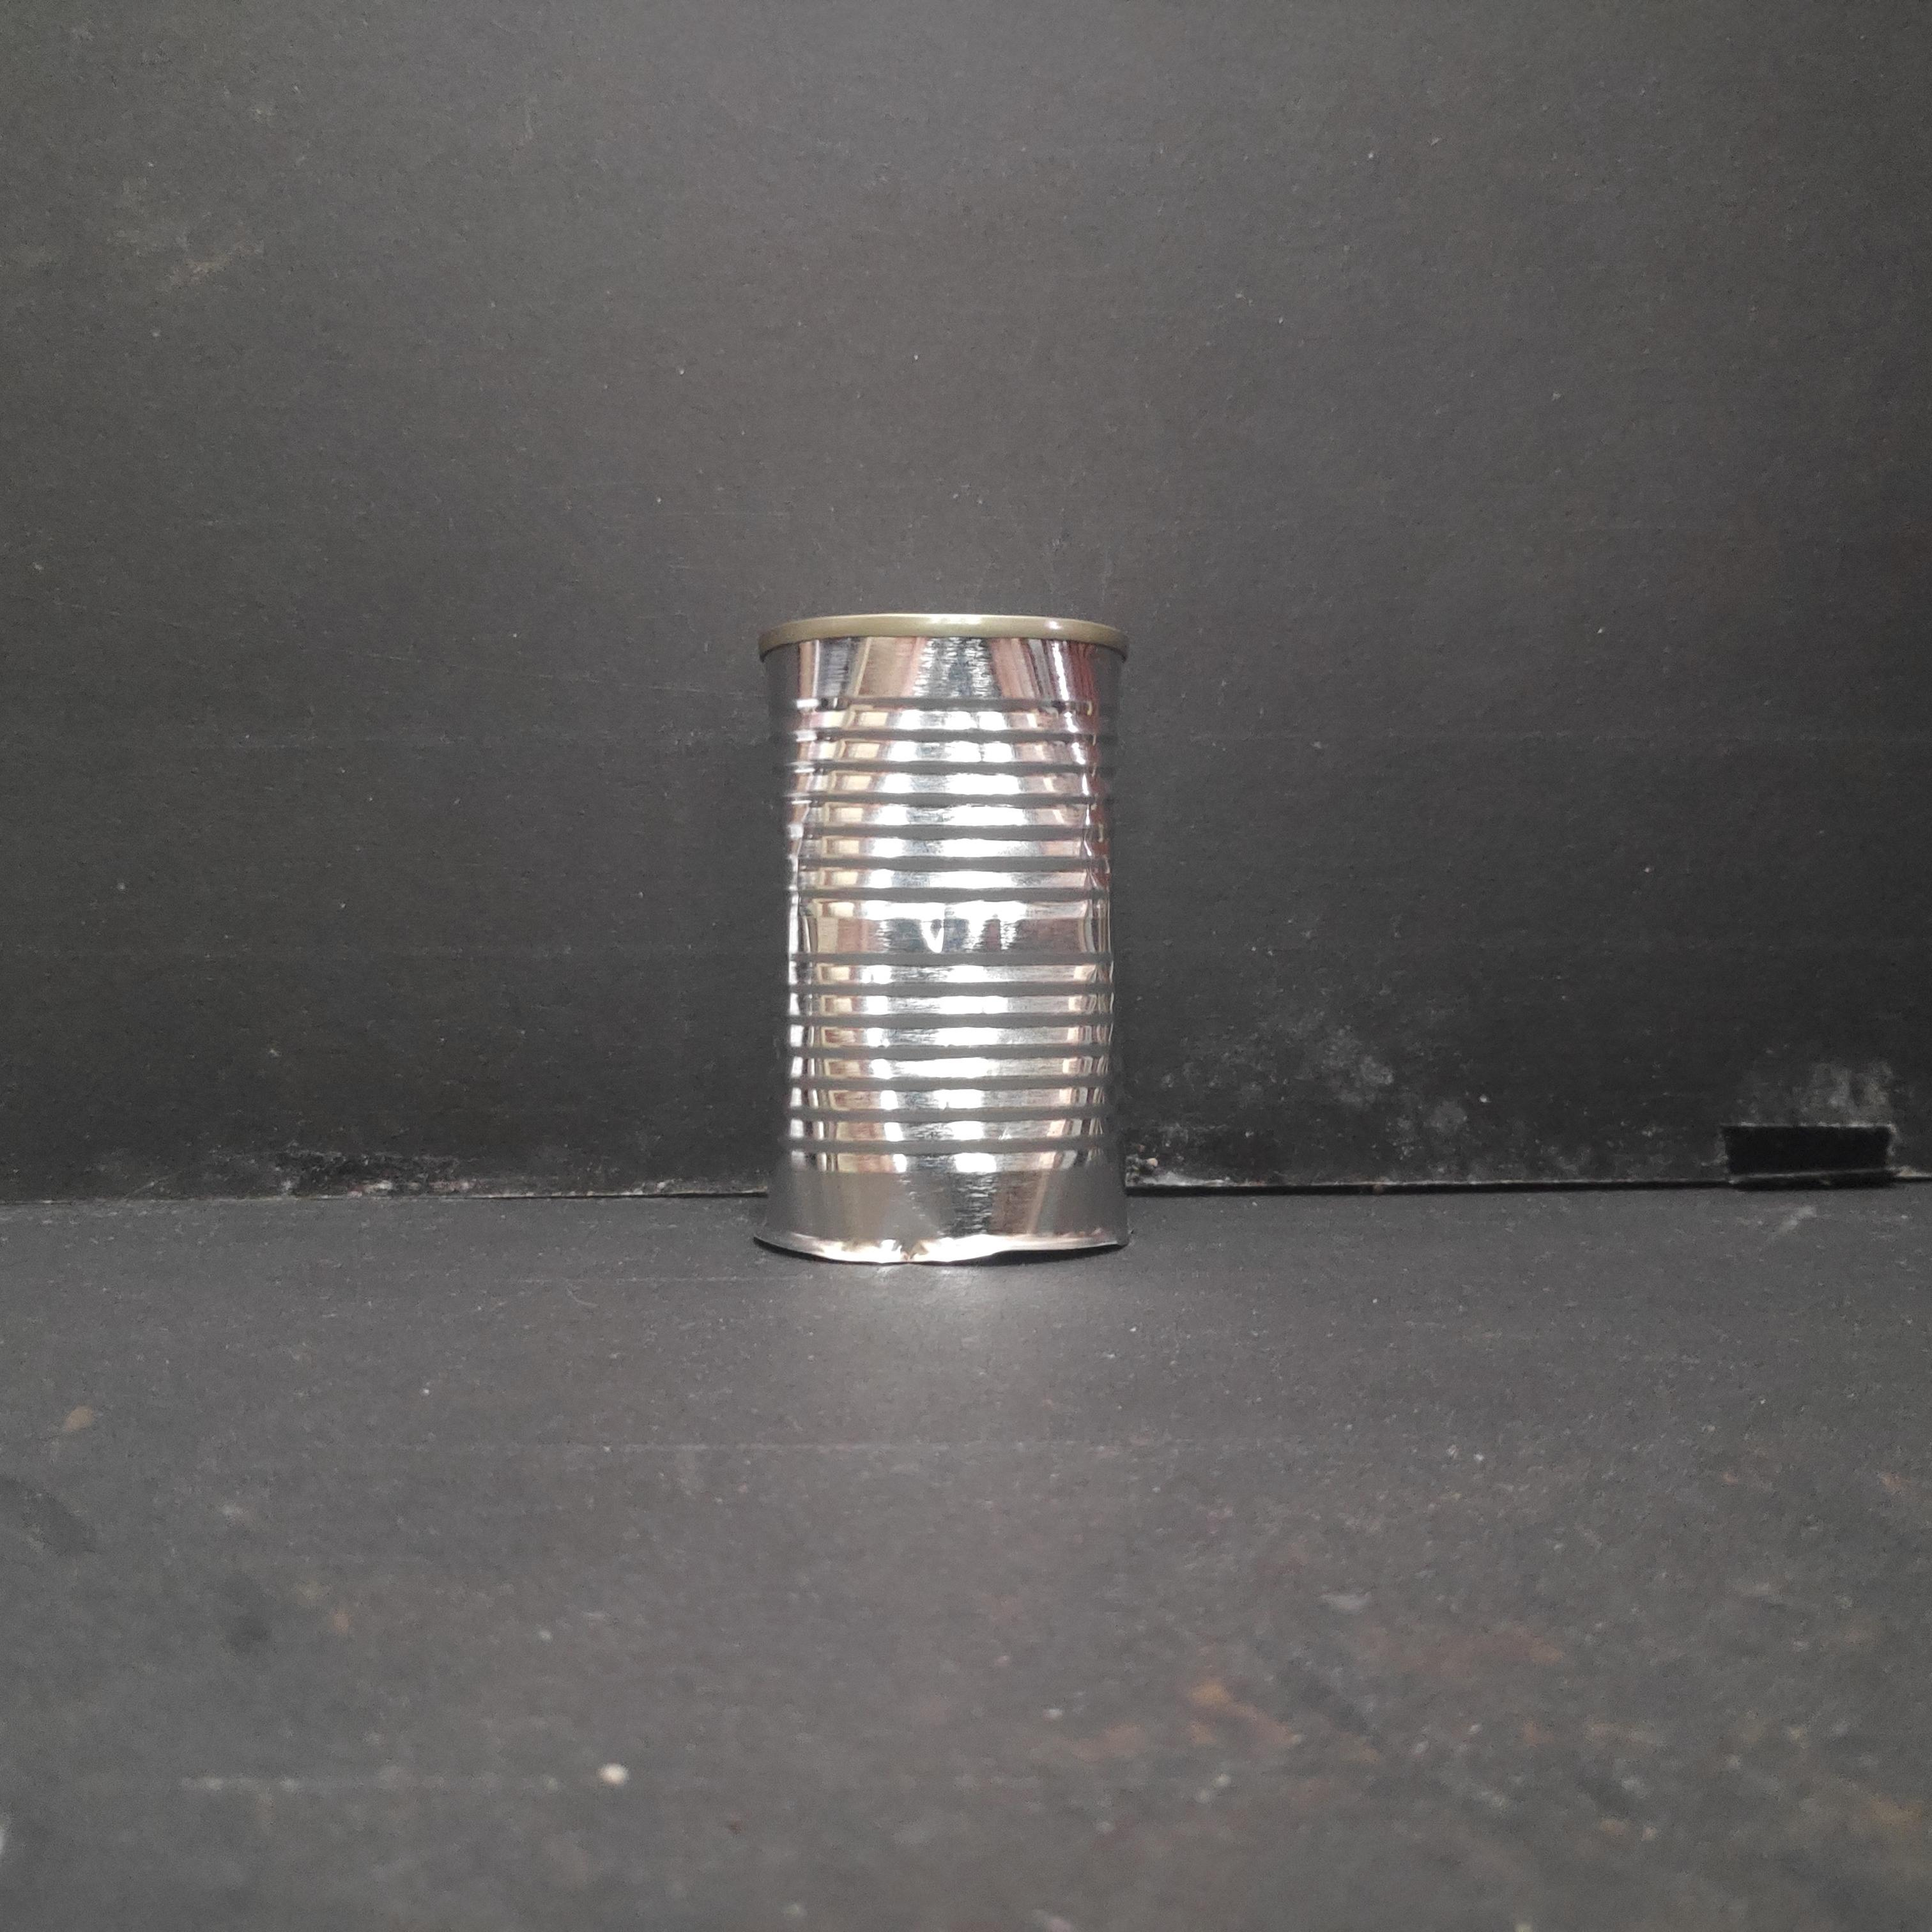Minor Defect: (752, 602, 1141, 1277)
